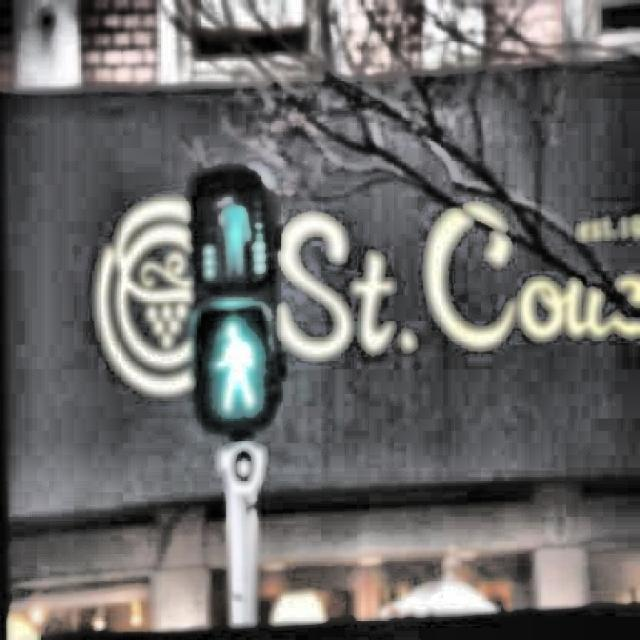semaforo pedestre: (136, 121, 342, 482)
